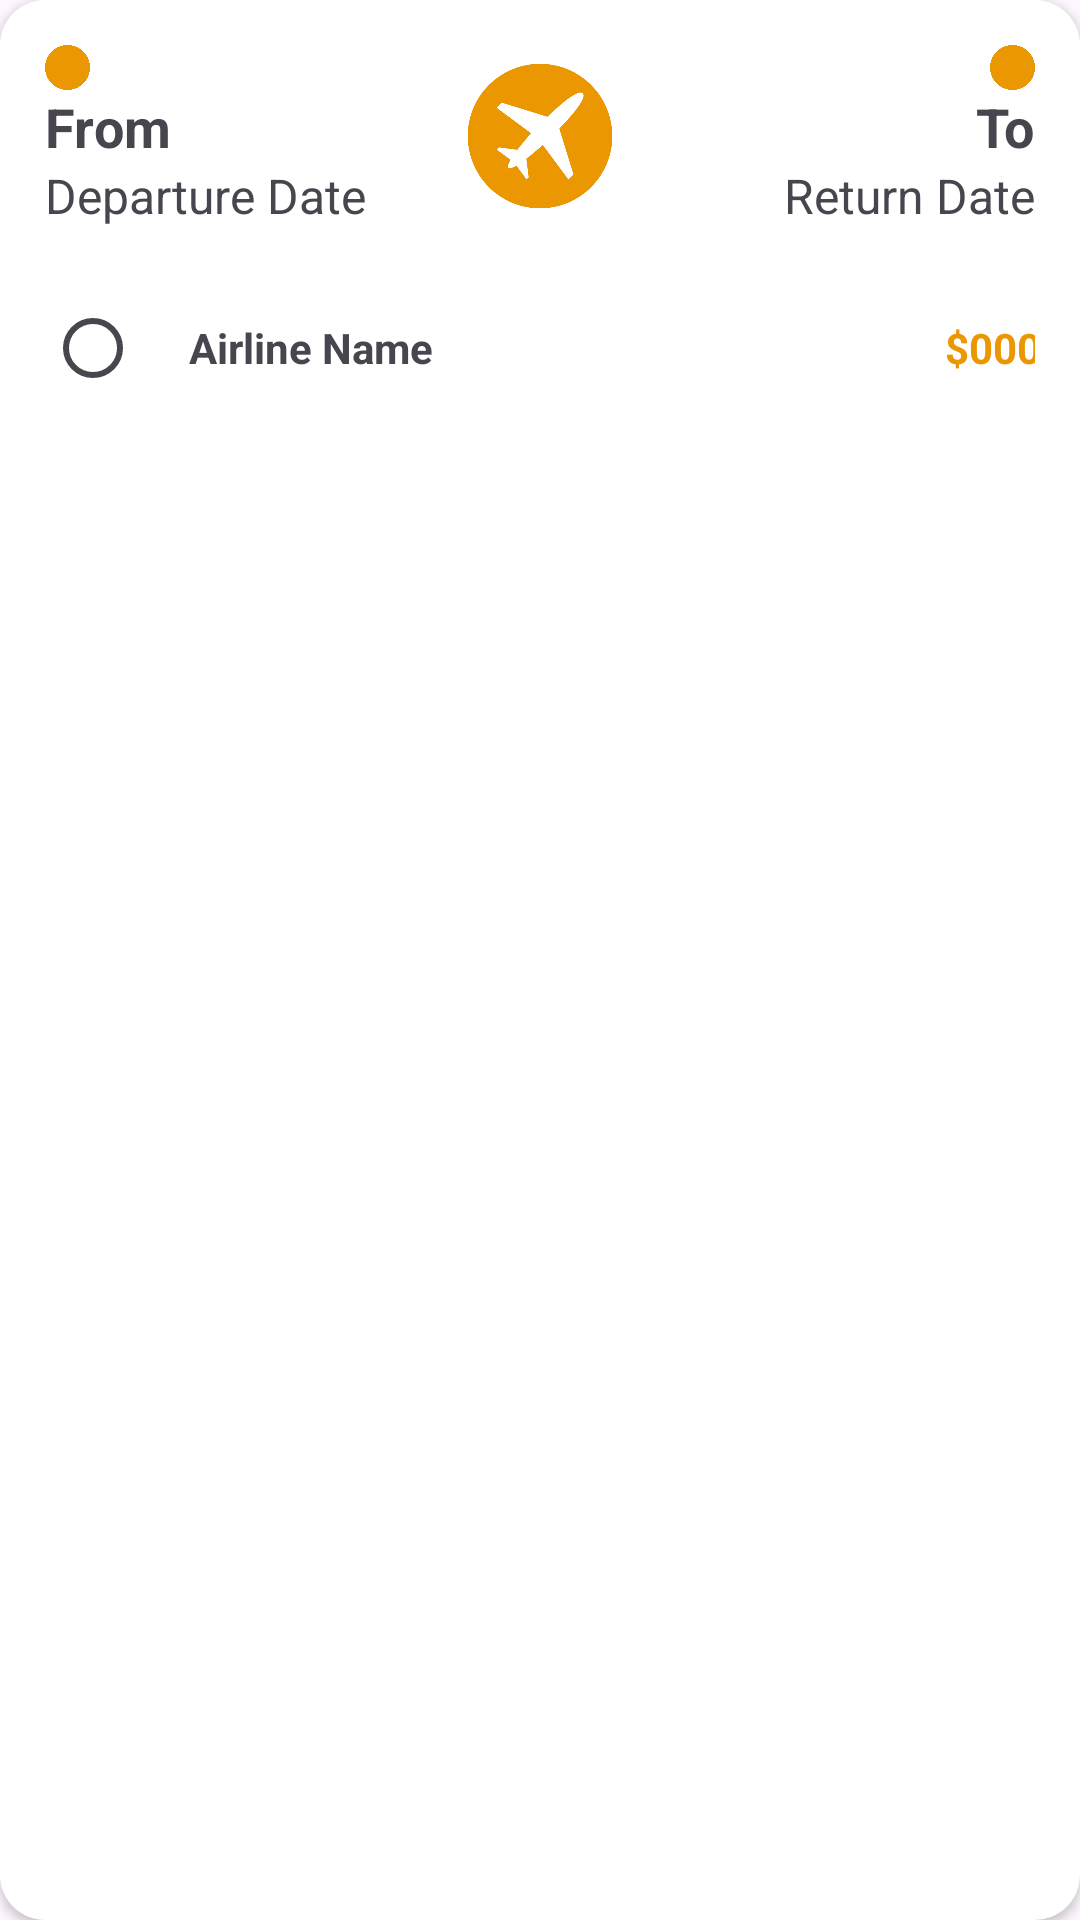

Icons on this 1080 × 1920 Android screen, each with the point to tap as [x,y]:
flight: [540,136]
